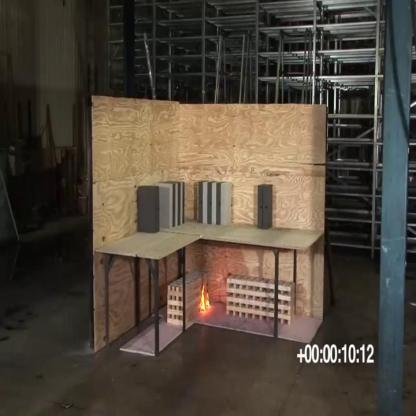fire: (200, 282, 212, 315)
